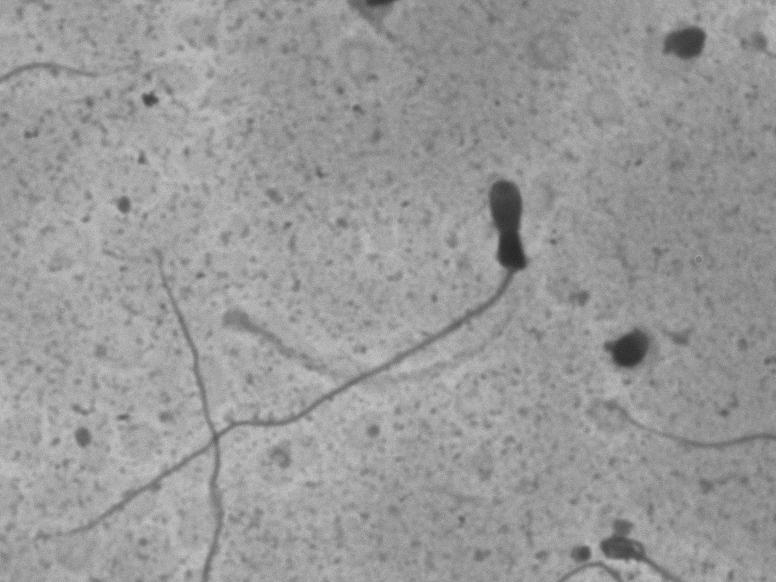Abnormal: (266, 147, 570, 466)
